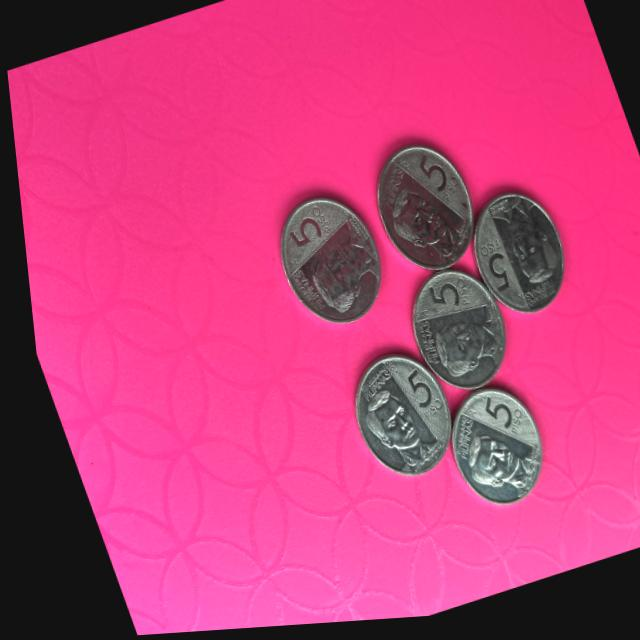5_New_Front: (259, 193, 349, 271), (382, 352, 441, 433), (463, 233, 519, 311), (404, 266, 468, 331), (405, 149, 464, 213), (464, 390, 520, 451)
